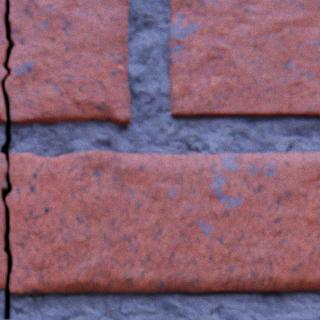brick: (168, 0, 319, 117)
broken_brick: (6, 152, 319, 293), (5, 0, 130, 125), (0, 0, 8, 123), (0, 154, 7, 290)
crack: (0, 0, 13, 319)
